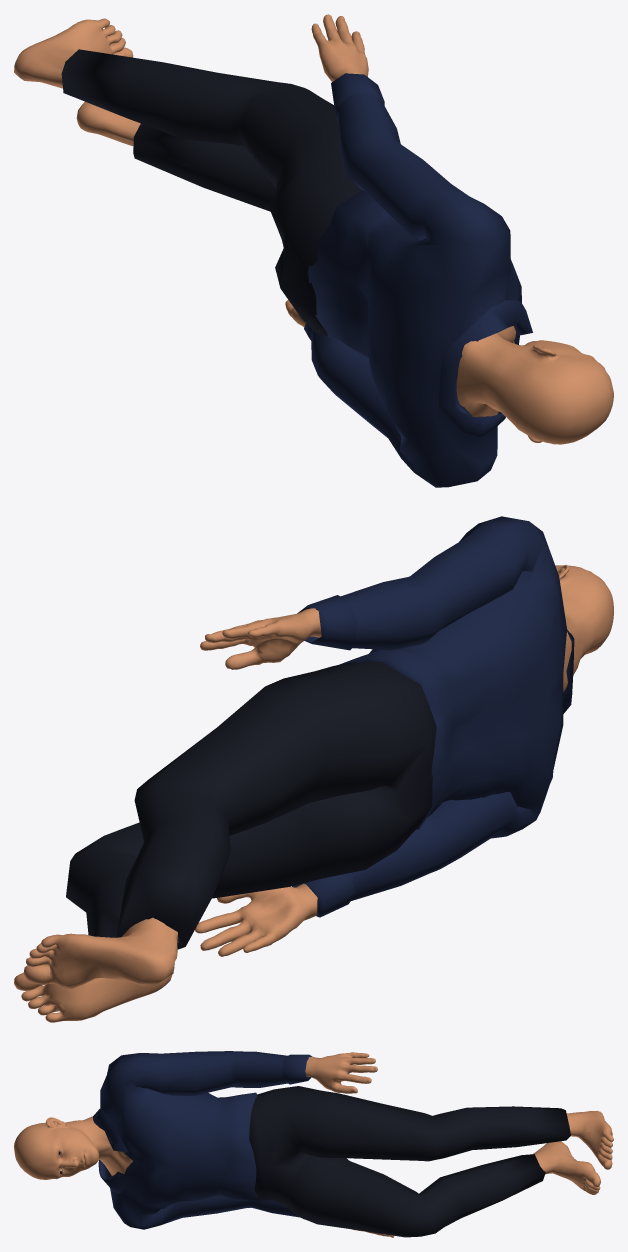
File: walk.obj
3 renders of one model, top to bottom at view 1: azimuth 30°, elevation 25°; view 2: azimuth 150°, elevation 25°; view 3: azimuth 270°, elevation 25°, orthographic. The views are drawn at different scales.
Bounding box in the file's own units: 0.4596 × 0.5778 × 1.68.
